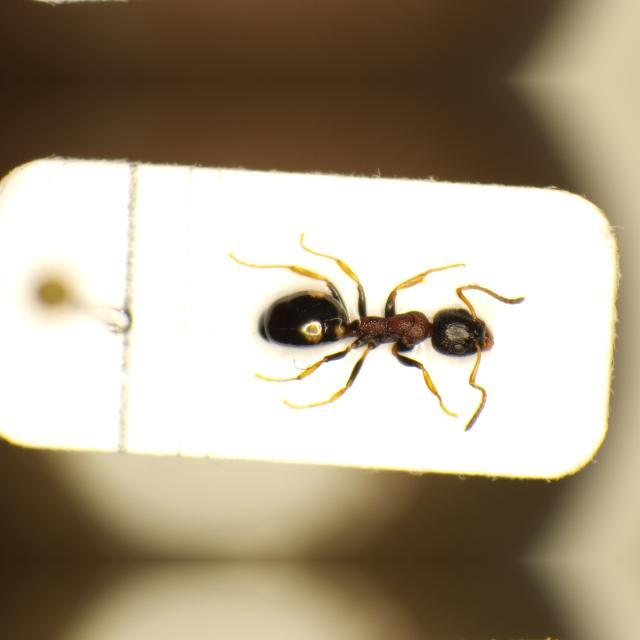Dolichoderus: (234, 244, 522, 401)
